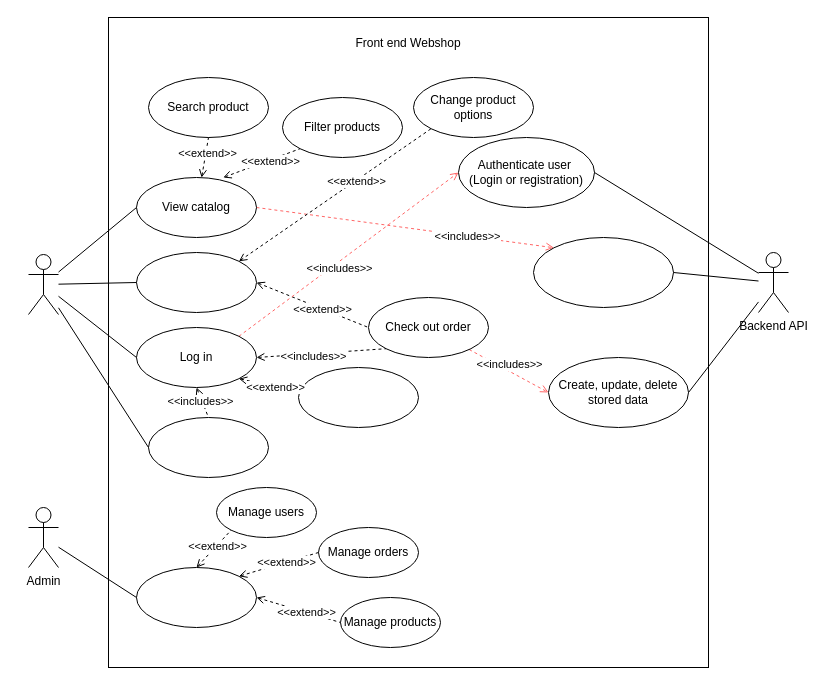
Image size: 825x685. Some labels were removed from this diagram. Here are the shapes that lost their labels. From the top down, the box of each, then its label:
(28, 254, 58, 314): Customer
(136, 252, 256, 312): Put product in cart
(532, 236, 674, 308): Provide JSON data (products, users, orders)
(298, 366, 418, 428): Register
(148, 416, 268, 478): Place review on product
(136, 566, 256, 628): View dashboard
